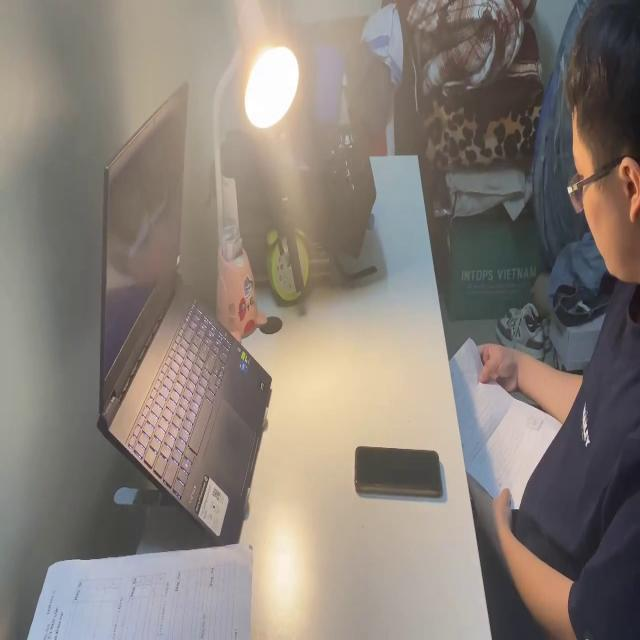book: (18, 546, 255, 640), (447, 332, 563, 512)
laptop: (93, 73, 274, 550)
phone: (353, 438, 446, 502)
student: (453, 0, 640, 640)
